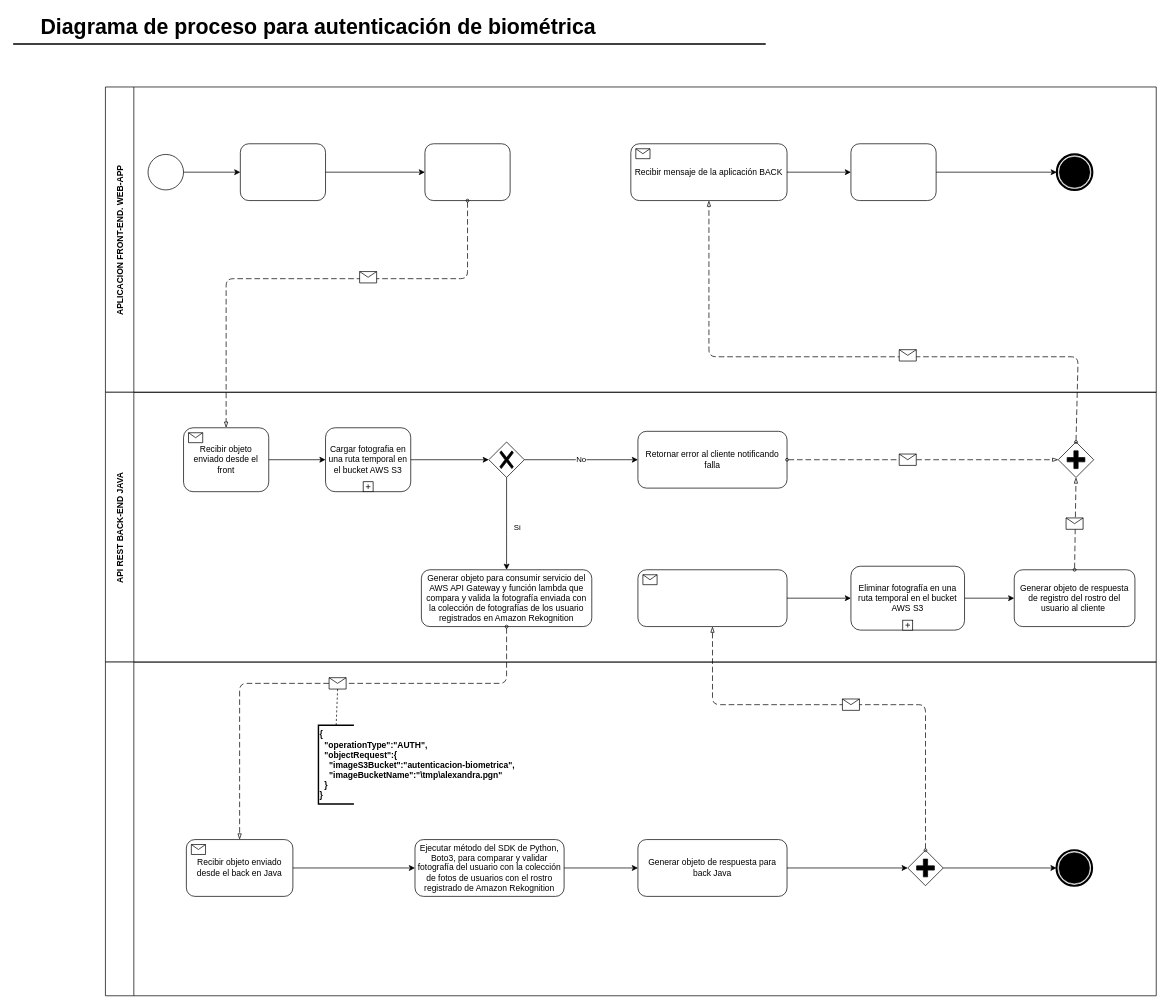
Some shapes in this 1169 by 1008 pixel diagram are drawn without their labels. Here are the shapes that lost their labels. From the top down, the box of each, then its label:
(240, 143, 326, 201): Tomar fotografia del usuario utilizando OPENCV
(424, 143, 510, 201): Generar objeto para consumir servicio back
(850, 143, 936, 201): Alertar respuesta del proceso.
(488, 441, 524, 477): Carga exitosa a AWS S3
(637, 569, 787, 627): Recibir objeto enviado desde AWS API GATEWAY
(105, 661, 1156, 996): AWS API GATEWAY. FUNCIÓN LAMBDA: biometric_auth_lambda_funct
